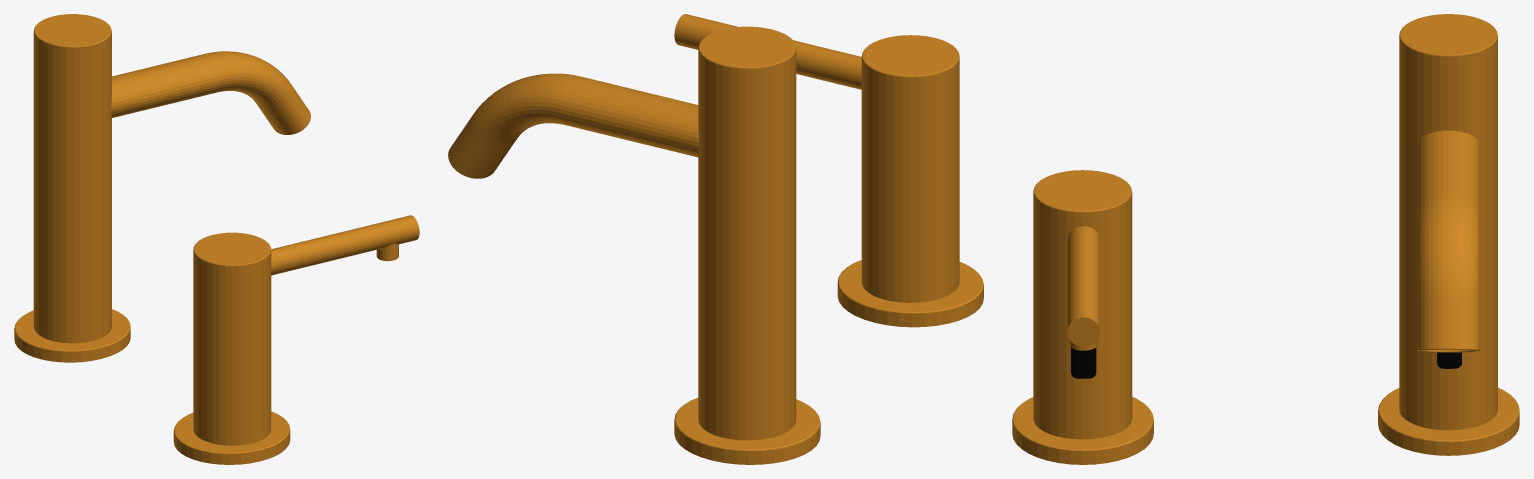
Rendered from tap.obj.
3 views of the same model, side by side, from view 1: azimuth 30°, elevation 25°; view 2: azimuth 150°, elevation 25°; view 3: azimuth 270°, elevation 25° (orthographic). The views are drawn at different scales.
Visible parts, largest first — view 1: group_44_Material.001, group_54_Material.001, group_45_Material.001, group_49_Material.001, group_50_Material.001, group_43_Material.001; view 2: group_44_Material.001, group_54_Material.001, group_45_Material.001, group_50_Material.001, group_43_Material.001, group_49_Material.001; view 3: group_44_Material.001, group_54_Material.001, group_45_Material.001, group_50_Material.001, group_43_Material.001, group_49_Material.001, group_54.001_delabie_tap_sensor.
Boxes of the visible parts, <box> form: group_44_Material.001: <box>33,14,111,343</box>; group_54_Material.001: <box>193,232,271,445</box>; group_45_Material.001: <box>111,51,310,134</box>; group_49_Material.001: <box>271,215,419,275</box>; group_50_Material.001: <box>173,411,290,464</box>; group_43_Material.001: <box>14,309,130,362</box>; group_44_Material.001: <box>698,26,796,440</box>; group_54_Material.001: <box>861,35,959,302</box>; group_45_Material.001: <box>448,73,698,178</box>; group_50_Material.001: <box>837,260,983,327</box>; group_43_Material.001: <box>674,397,820,464</box>; group_49_Material.001: <box>674,14,861,89</box>; group_44_Material.001: <box>1399,14,1497,430</box>; group_54_Material.001: <box>1033,170,1132,439</box>; group_45_Material.001: <box>1417,130,1479,352</box>; group_50_Material.001: <box>1012,397,1153,464</box>; group_43_Material.001: <box>1378,387,1519,455</box>; group_49_Material.001: <box>1067,226,1099,346</box>; group_54.001_delabie_tap_sensor: <box>1071,347,1096,378</box>.
Size of the model in its own units: 4.95 by 5.12 by 6.04.
